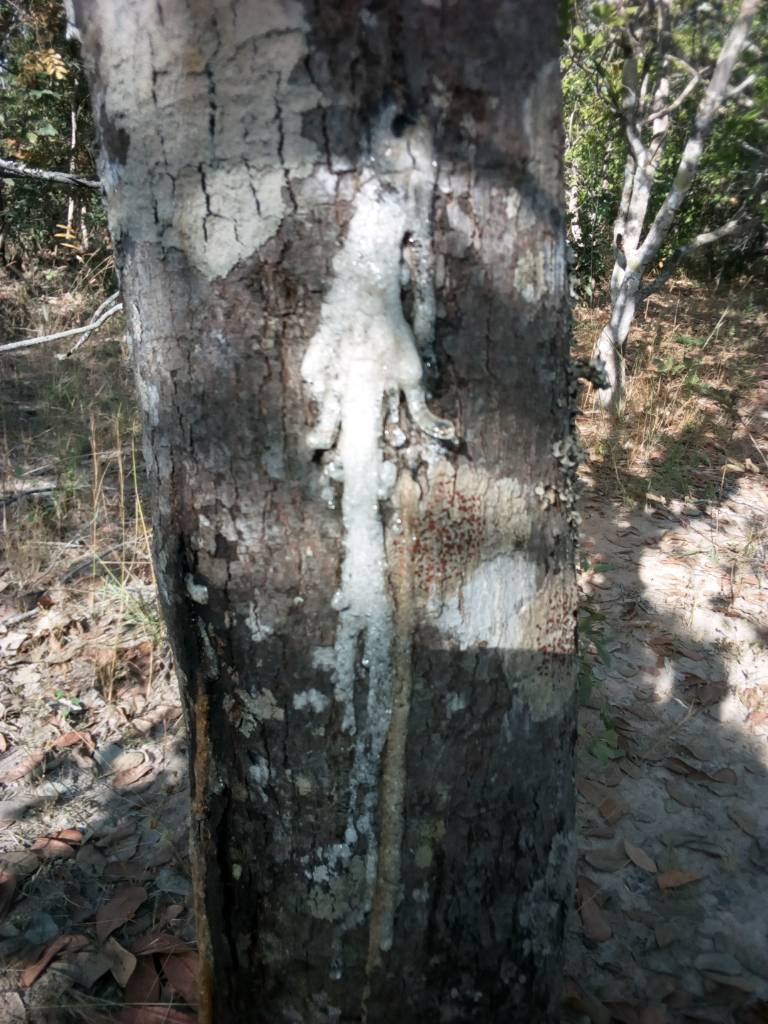Apate terebrans: (80, 127, 672, 985)
